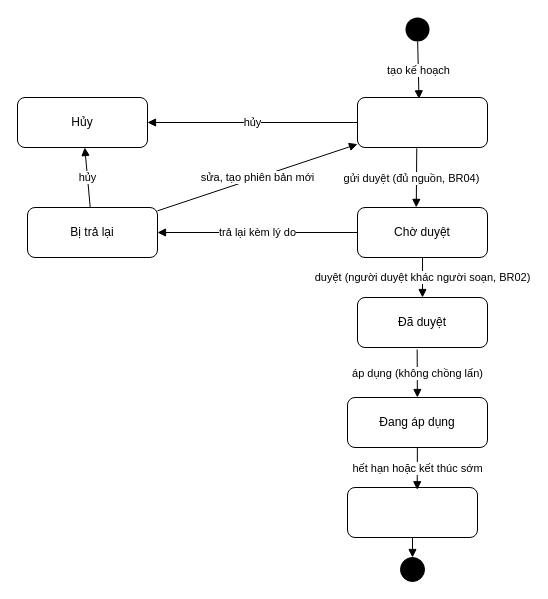
Some shapes in this 548 by 599 pixel diagram are drawn without their labels. Here are the shapes that lost their labels. From the top down, the centre of each, then its label:
At (422,122): "Nháp".
At (412,512): "Kết thúc".
